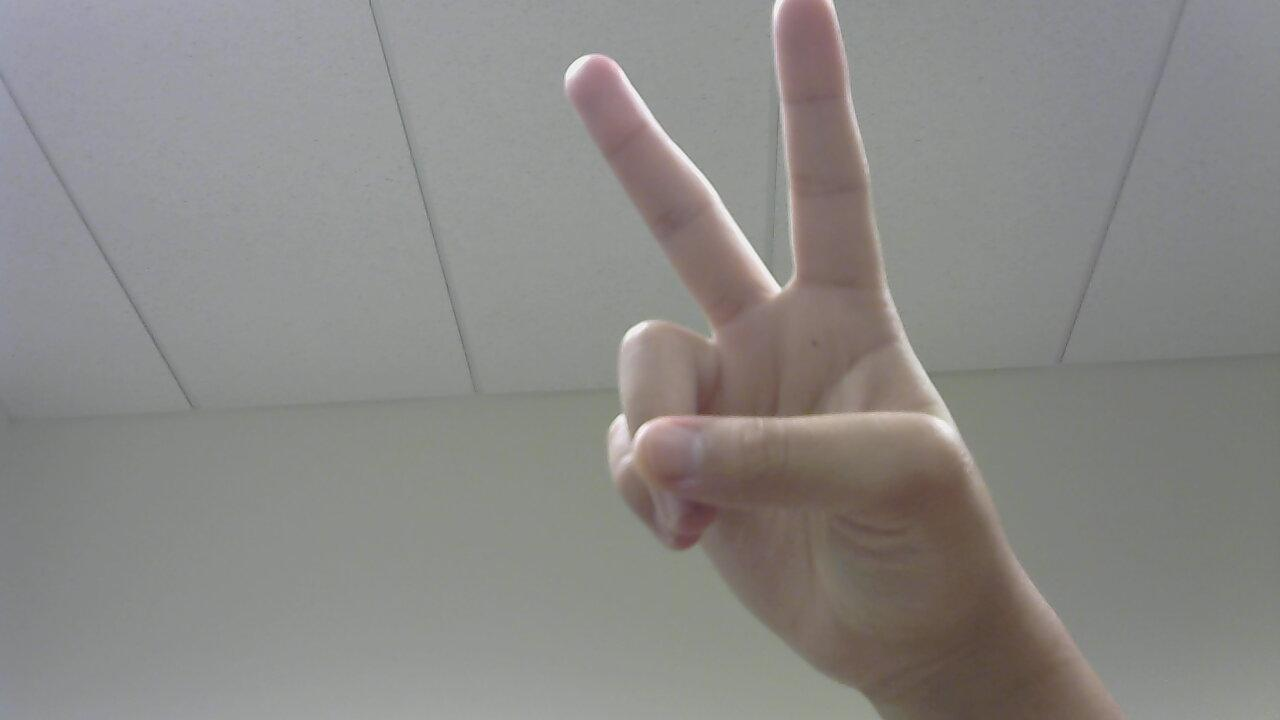peace: (533, 1, 1043, 718)
